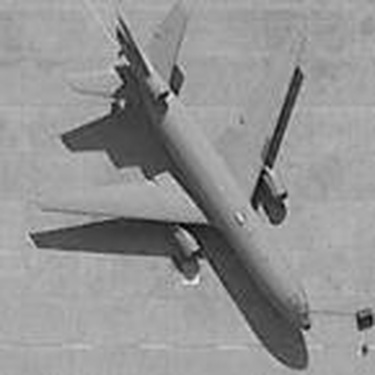airplane: (33, 1, 330, 337)
